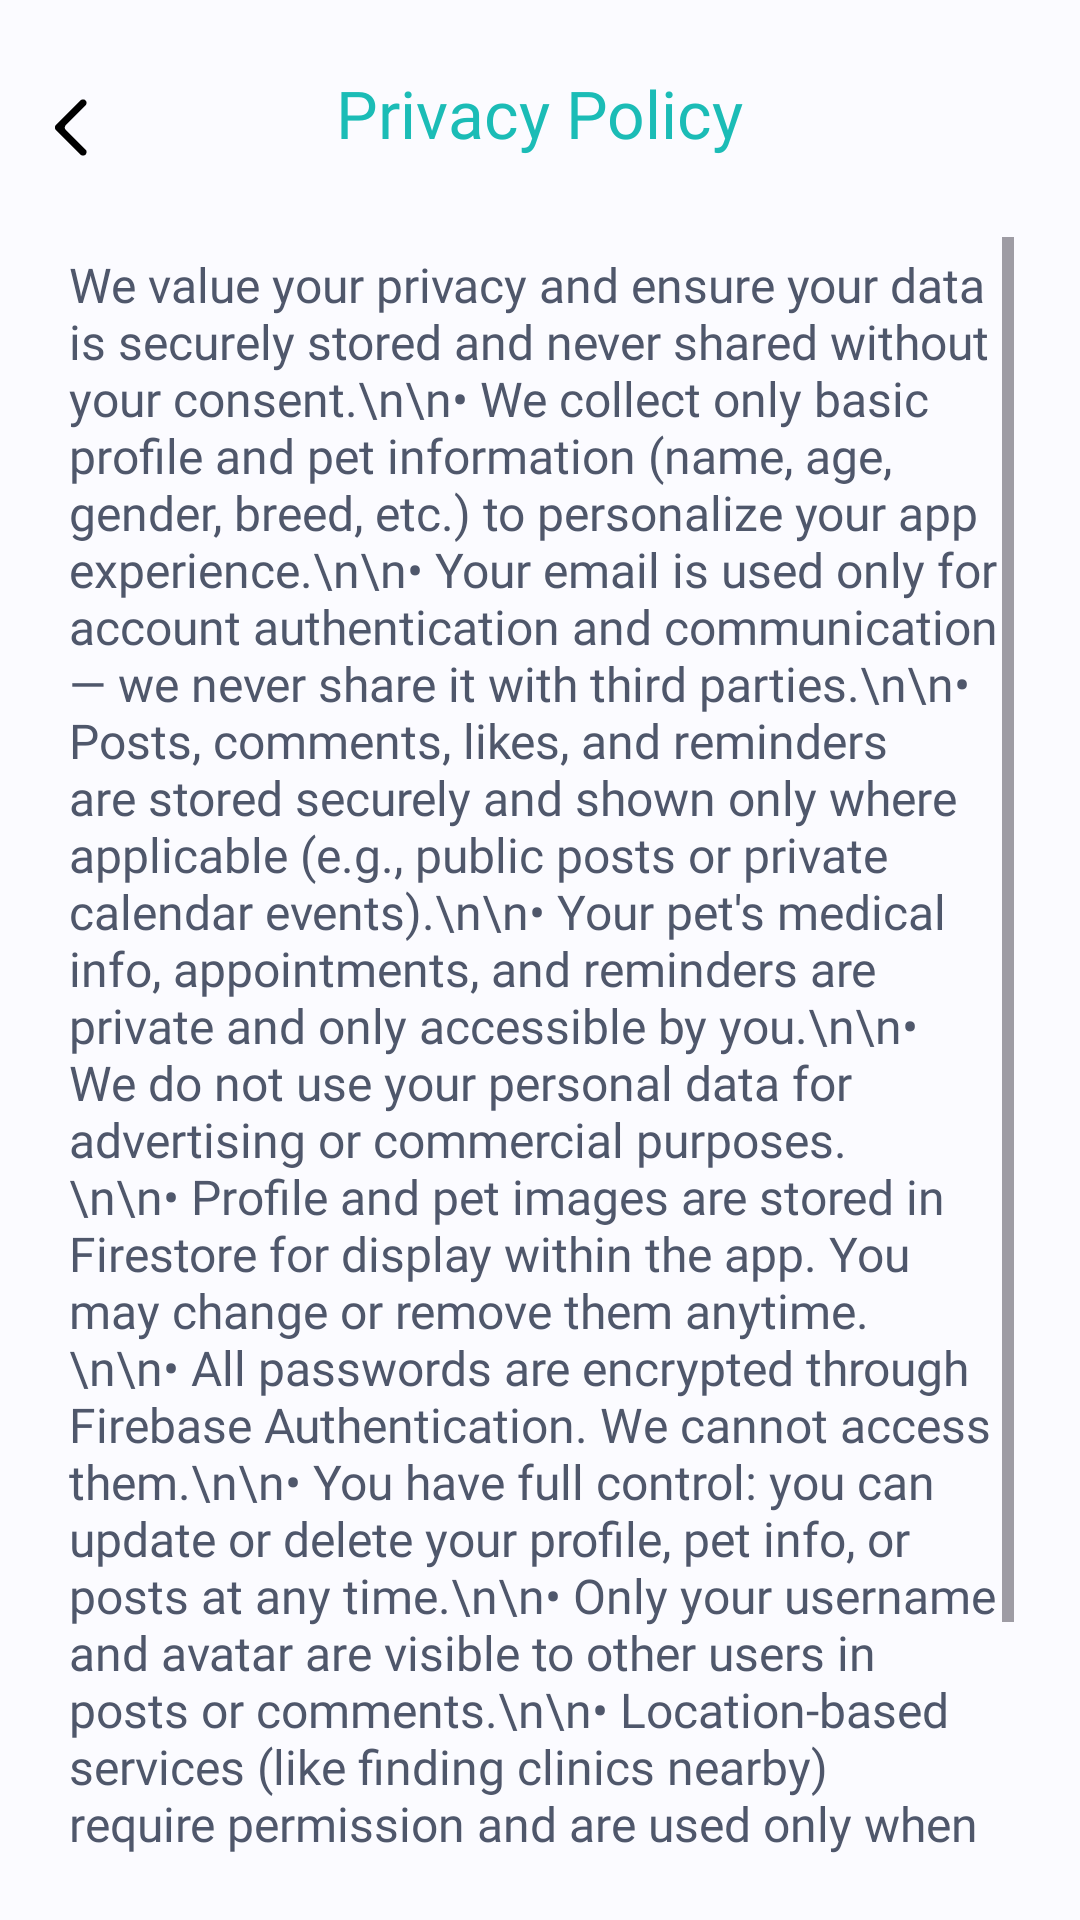

Where to tap for icons on this 1080 x 1920 app screen, as [x,y]:
Back: [71,127]
